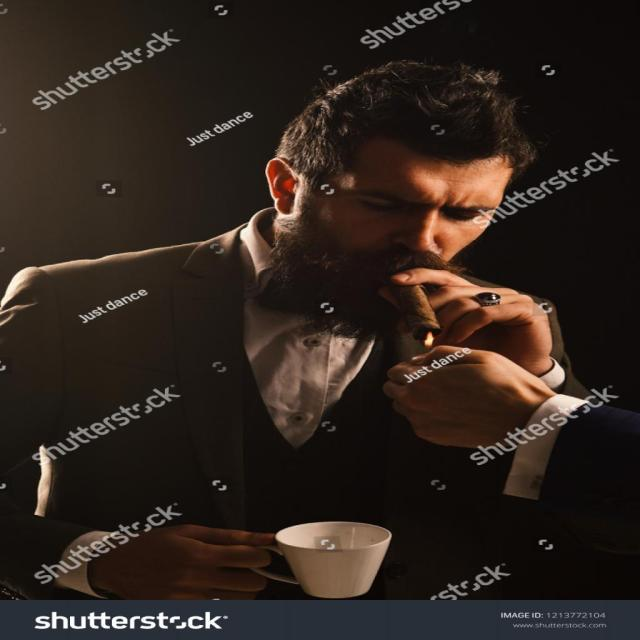smoking: (392, 276, 447, 352)
